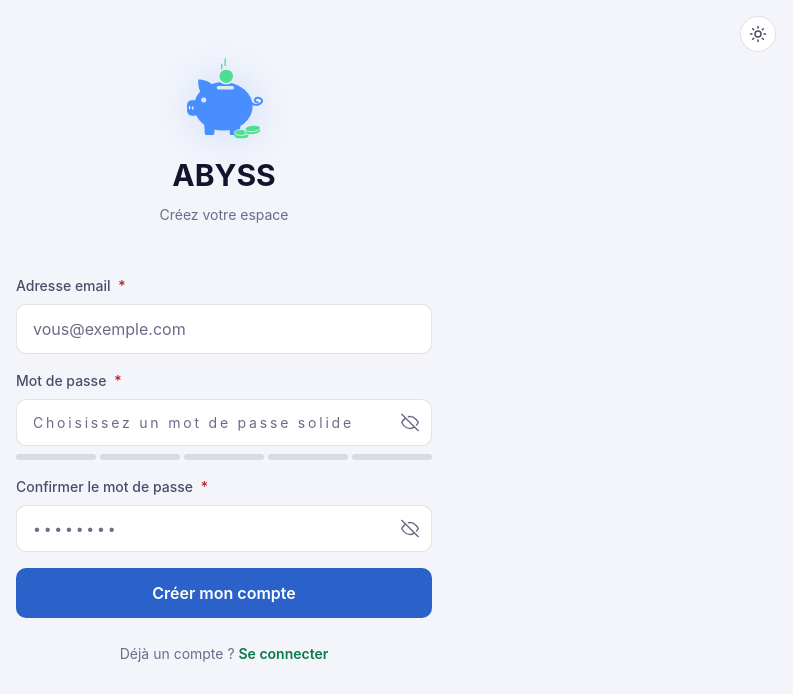
RegisterPage — validation › refuse deux mots de passe différents
Type "alice@example.com" into the field with id "register-email" at (224, 329), box [16, 304, 432, 354]
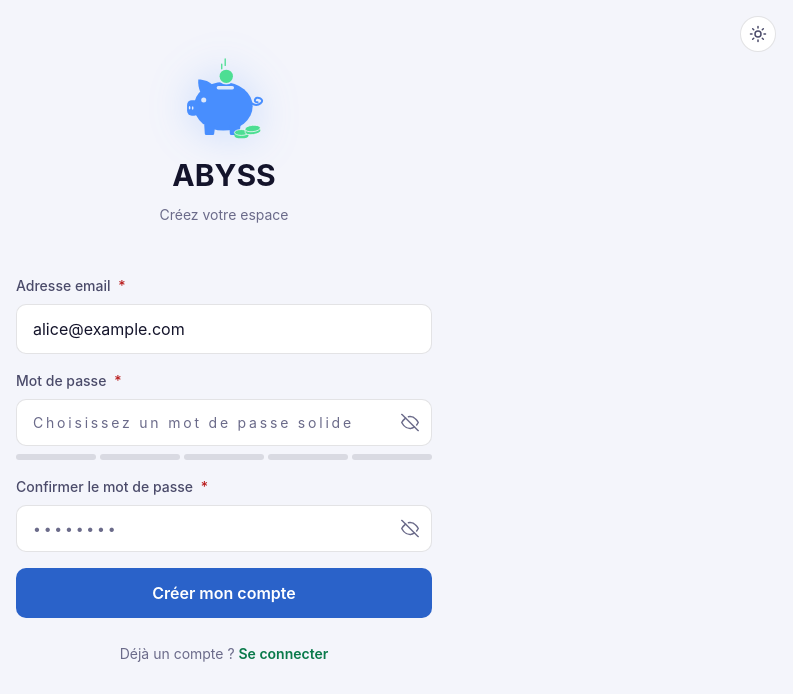
Type "Vélo-Bleu_4821" into the password field with id "register-password" at (224, 423), box [16, 399, 432, 446]
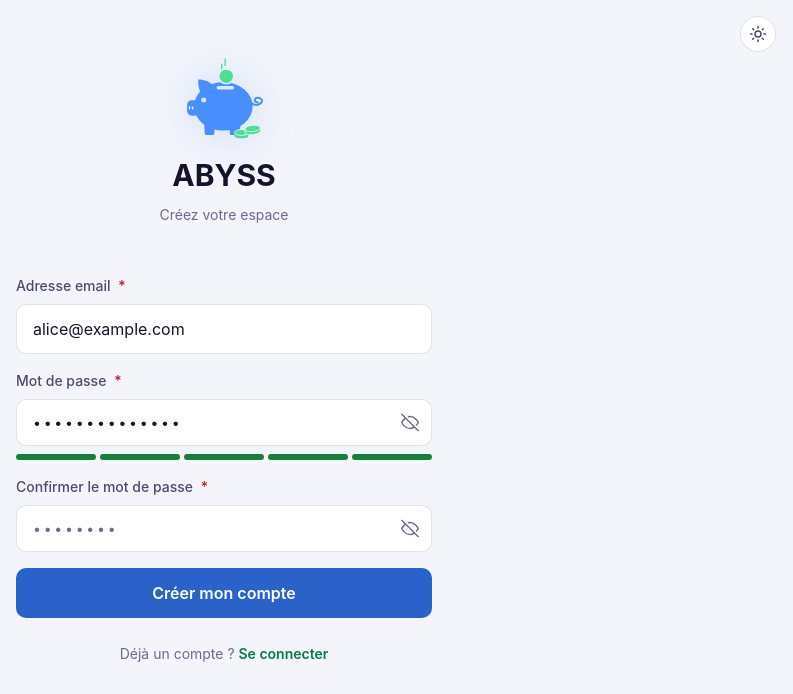
Type "Vélo-Bleu_4822" into the password field with id "register-confirm" at (224, 529), box [16, 505, 432, 552]
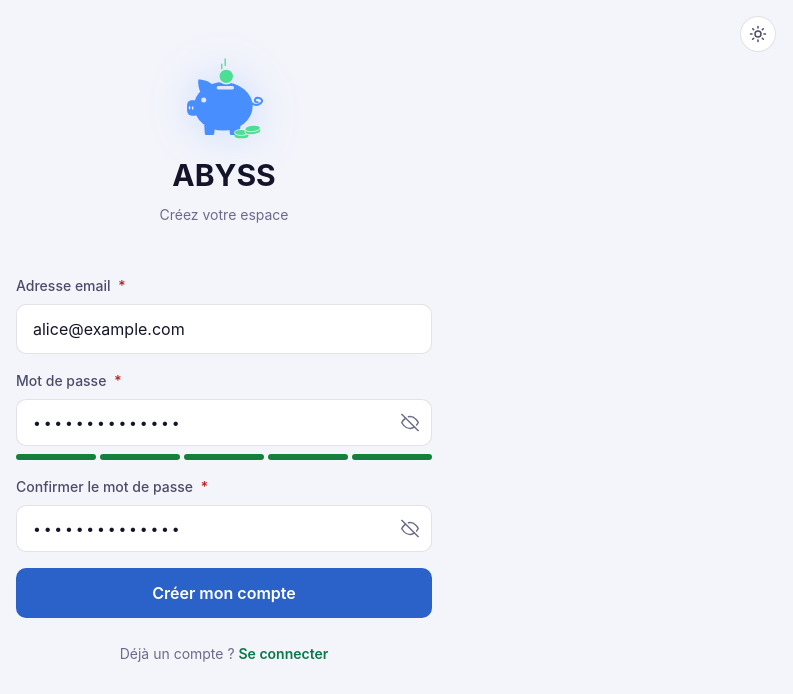
Submit the form, box [16, 275, 432, 618]
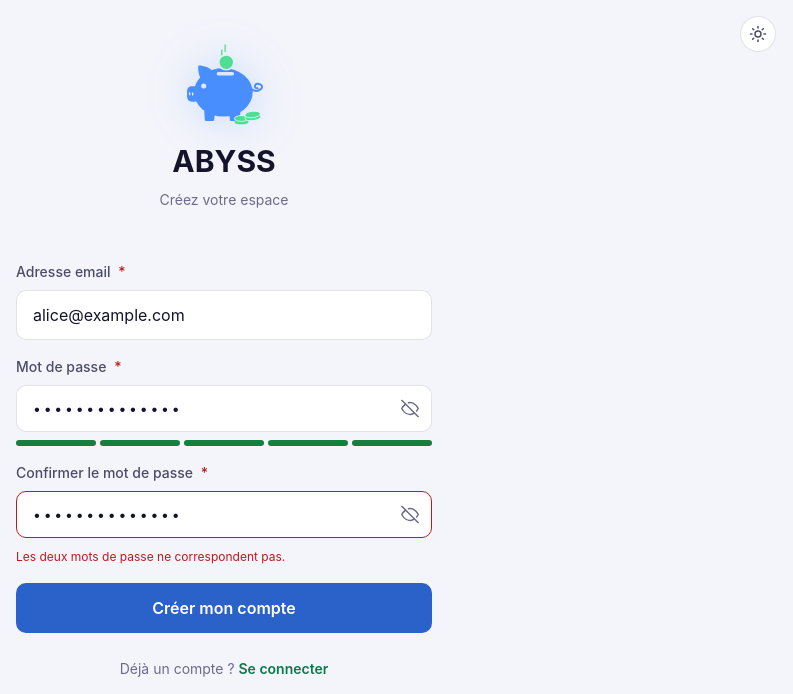
Expected: the text "ne correspondent pas" is shown, [16, 549, 285, 564]
